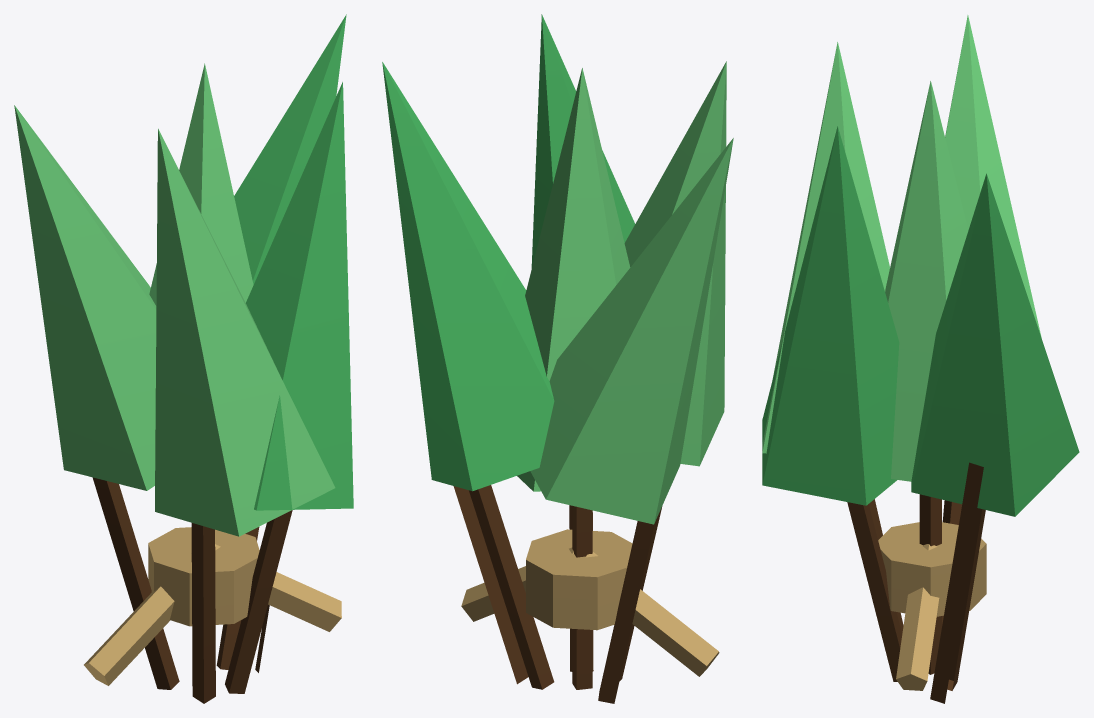
File: item_herb.glb
The picture shows the model from 3 angles, left to right: view 1: azimuth 30°, elevation 25°; view 2: azimuth 150°, elevation 25°; view 3: azimuth 270°, elevation 25°; orthographic projection. The views are drawn at different scales.
Parts seen in each view (by area): view 1: item_herb, item_herb_detail; view 2: item_herb, item_herb_detail; view 3: item_herb, item_herb_detail.
Boxes of the visible parts, bbox=[...] form: item_herb: bbox=[14, 14, 353, 703]; item_herb_detail: bbox=[84, 544, 341, 685]; item_herb: bbox=[382, 14, 733, 703]; item_herb_detail: bbox=[461, 547, 719, 676]; item_herb: bbox=[762, 15, 1079, 703]; item_herb_detail: bbox=[896, 544, 939, 690].
Bounding box in the file's own units: 0.2024 × 0.3541 × 0.1705.
